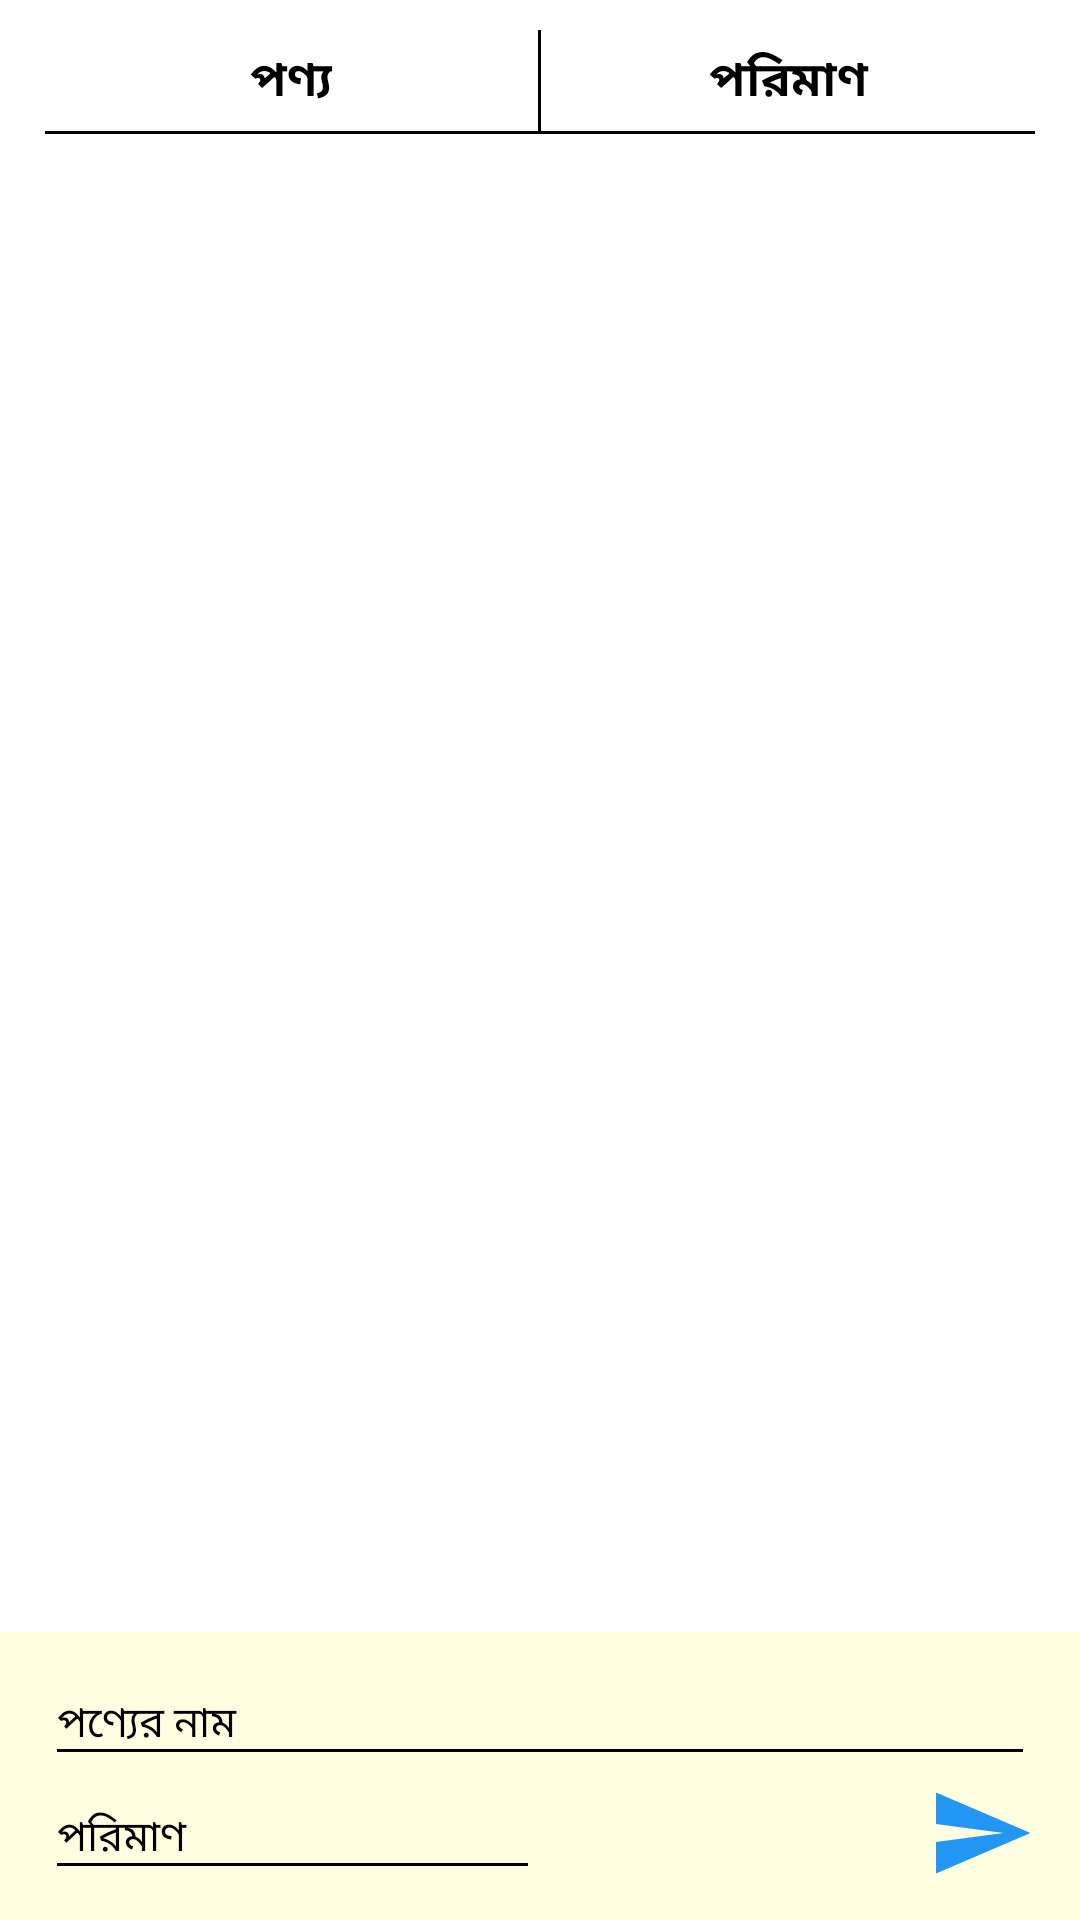

Where icons sit on this 1080×1920 app screen, as (x1, y1, x2, y2):
send: (936, 1792, 1030, 1874)
